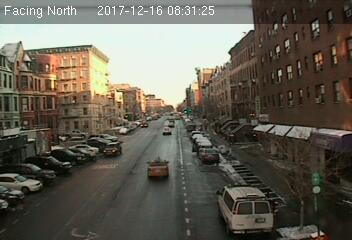car: (145, 154, 169, 179), (103, 141, 122, 157), (199, 148, 218, 162), (162, 126, 172, 136)
police: (217, 184, 276, 238)
